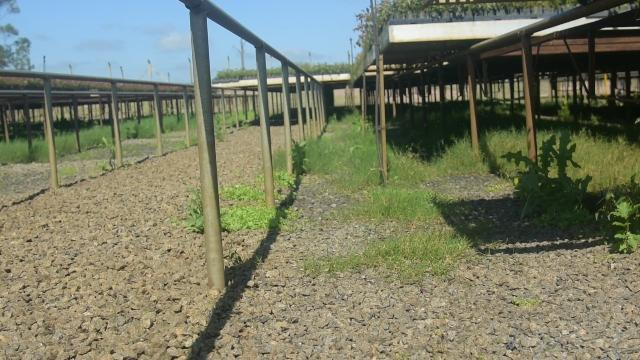MalezaMontesDelPlata: (311, 231, 503, 280), (495, 147, 593, 219), (351, 182, 450, 226), (597, 183, 640, 249), (220, 200, 298, 235), (284, 138, 319, 190), (180, 179, 205, 232)
